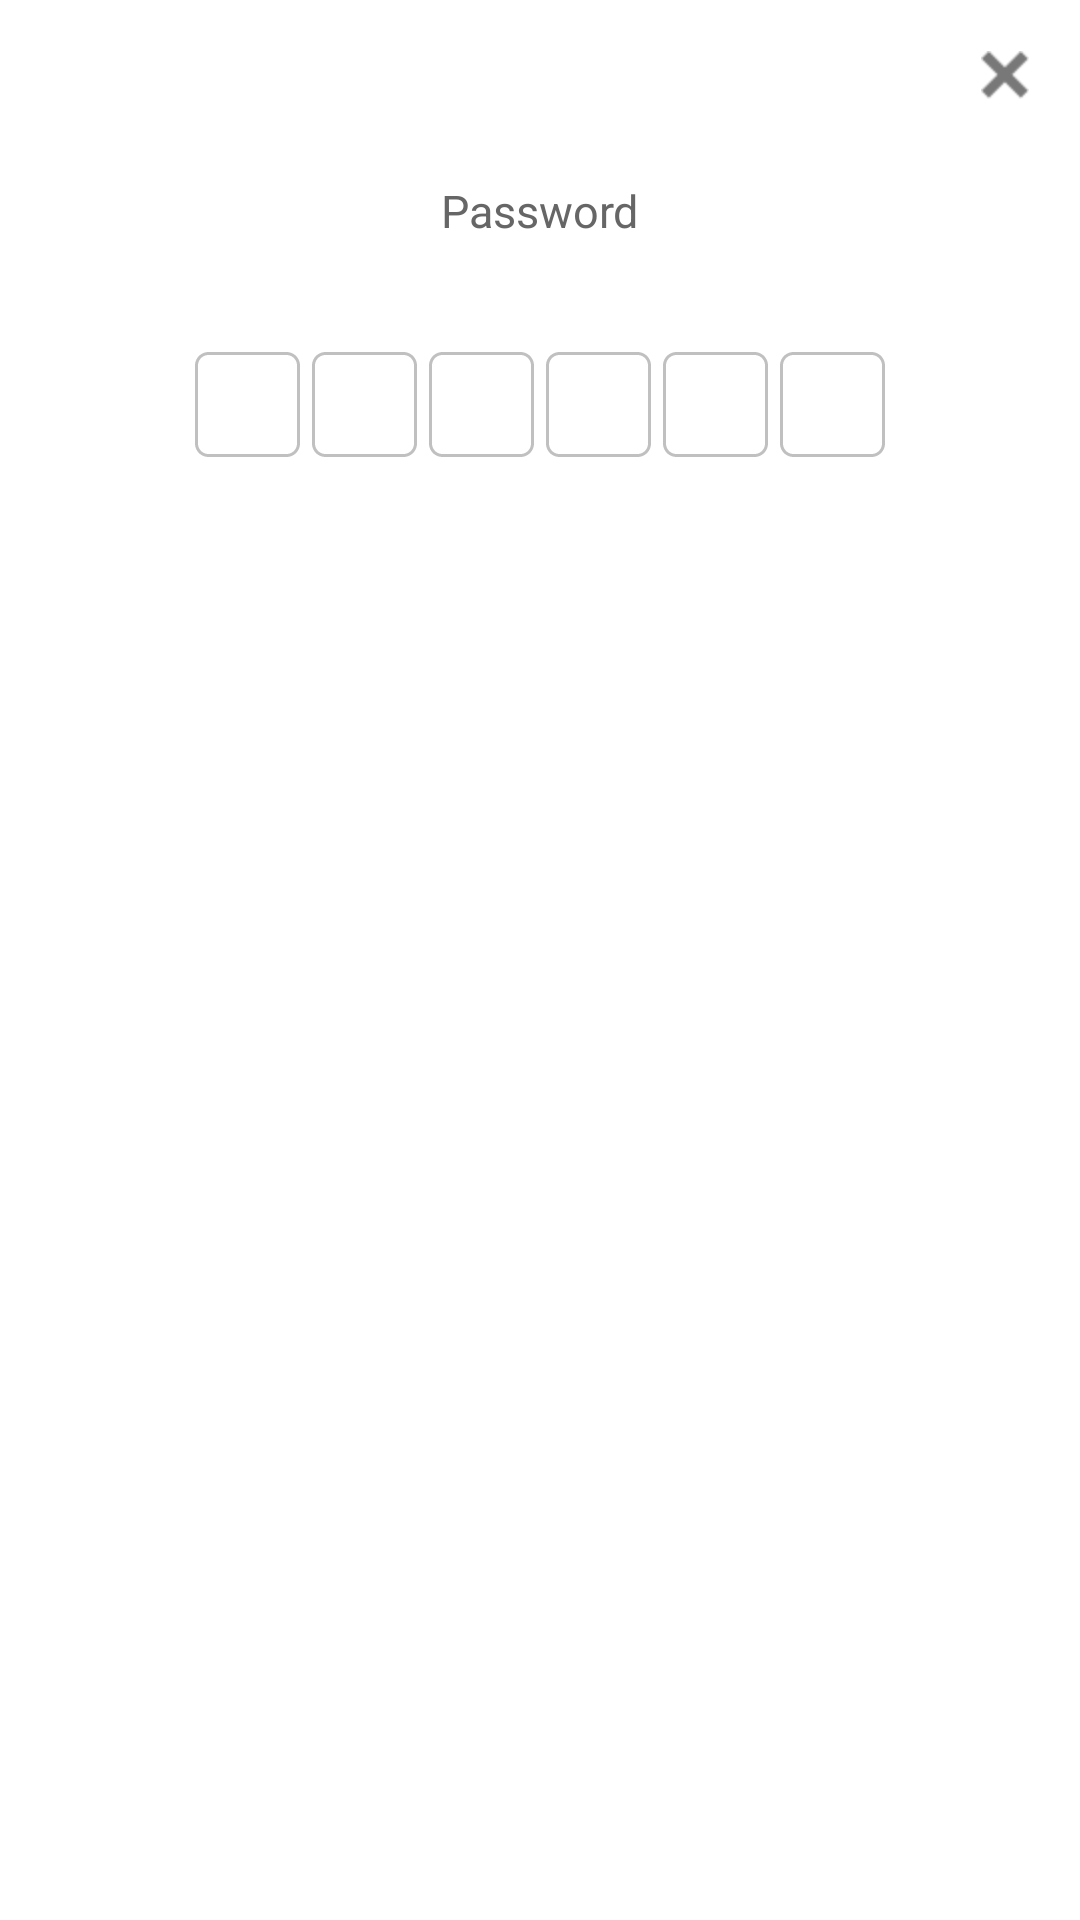

Locate icon controls on the screen. Image size 1080*1920, boxes as (x1, y1, x2, y2).
password close: (981, 51, 1029, 98)
